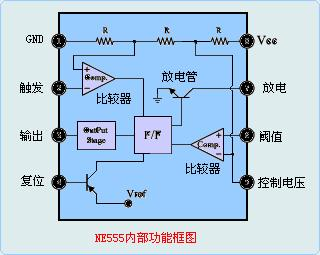bistable flip-flop: (134, 117, 172, 153)
comparator1: (82, 62, 115, 96), (192, 128, 224, 161)
discharge circuit: (169, 89, 192, 99)
output circuit: (78, 121, 115, 149)
reset circuit: (86, 170, 97, 195)
resistance: (94, 36, 115, 45), (211, 36, 229, 46), (157, 37, 175, 46)
